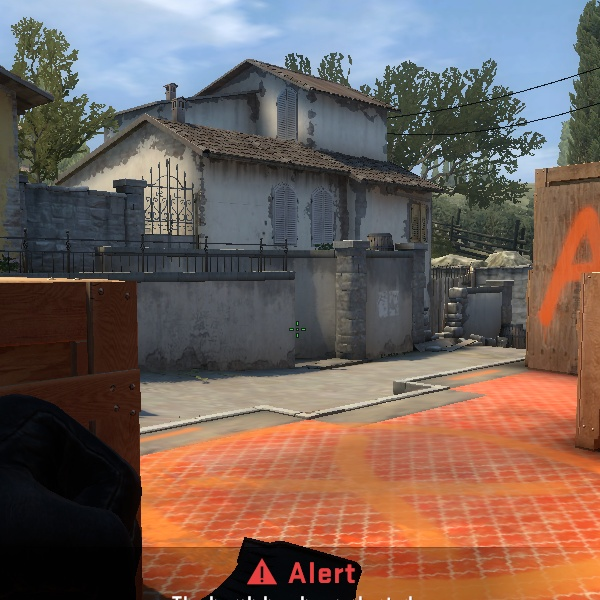t_body: (441, 286, 476, 340)
